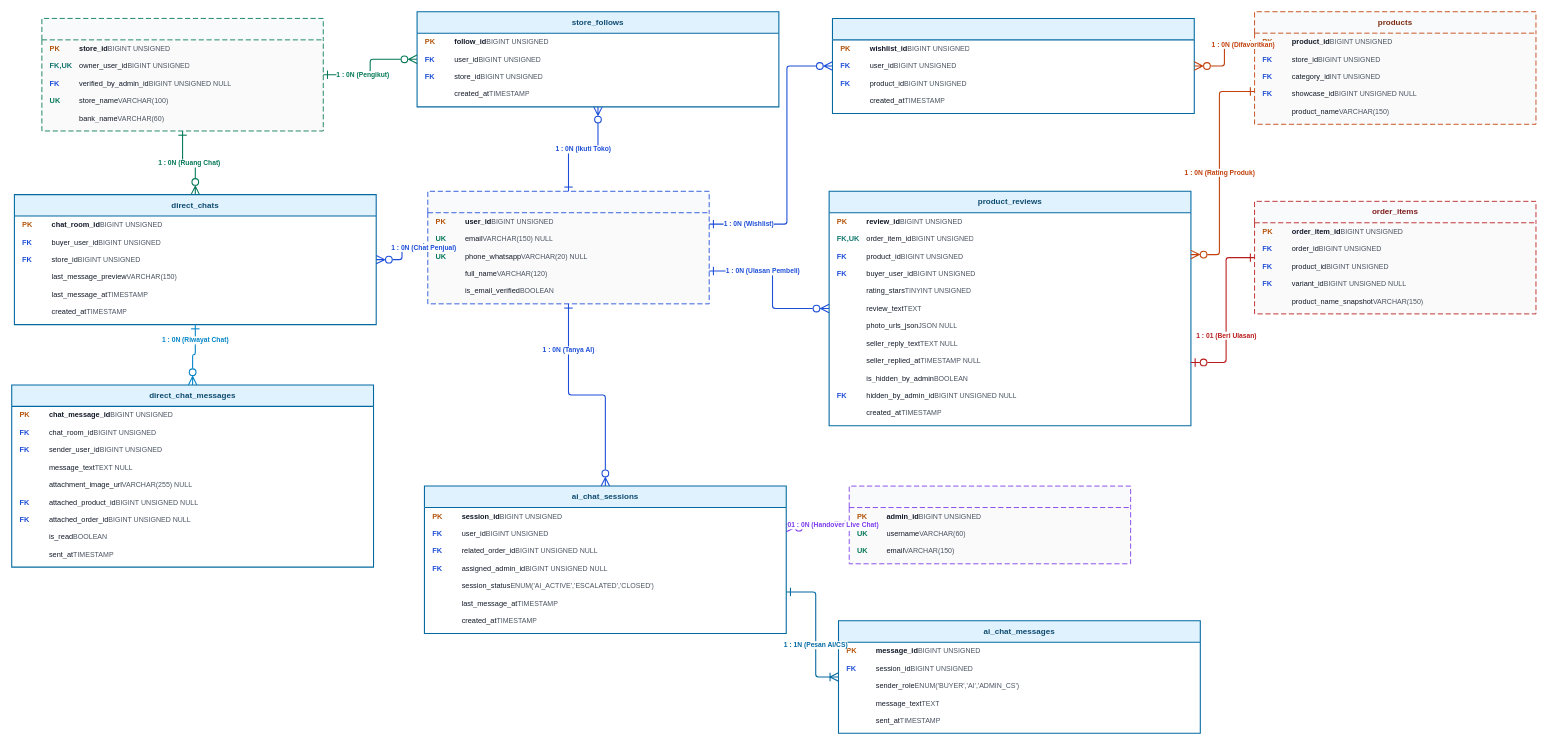
The diagram is 1548 pixels wide and 746 high, and some of its shapes have lost their labels. The shapes that lost their labels are listed below. From the top down, each one's box as (x1, y1, x2, y2) in pixels, then its label:
(41, 18, 323, 131): stores
(832, 18, 1194, 114): wishlists
(427, 191, 709, 304): users
(848, 485, 1131, 564): admins
